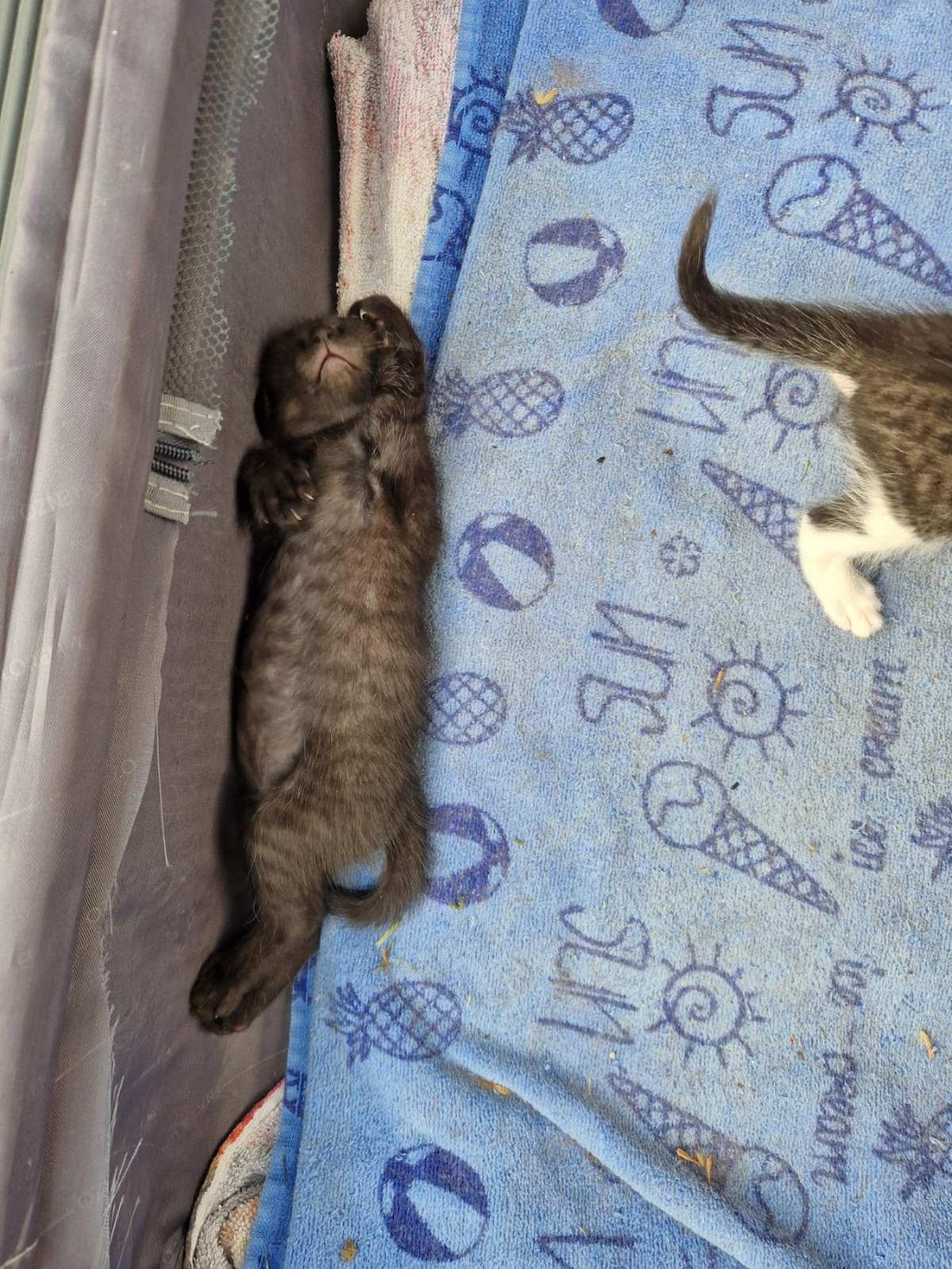macka: (180, 281, 443, 1032), (677, 191, 952, 640)
